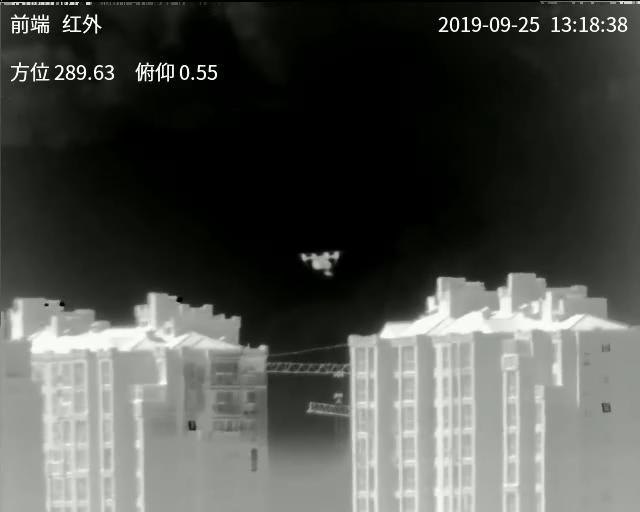uav: (300, 250, 343, 278)
